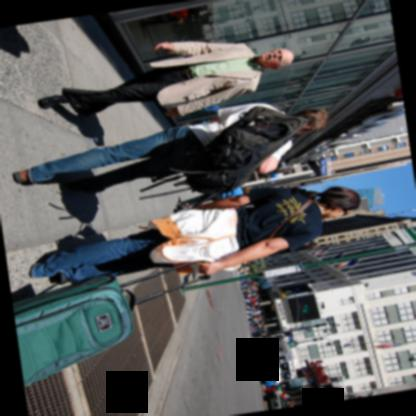backpack: (169, 108, 307, 197)
handbag: (262, 197, 313, 242)
suitcase: (11, 261, 209, 386)
